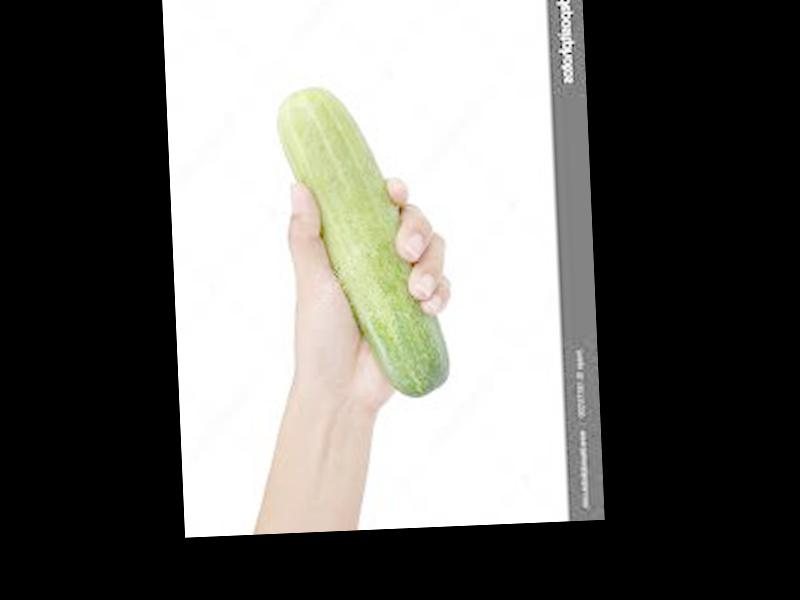Cucumber: (273, 84, 448, 403)
